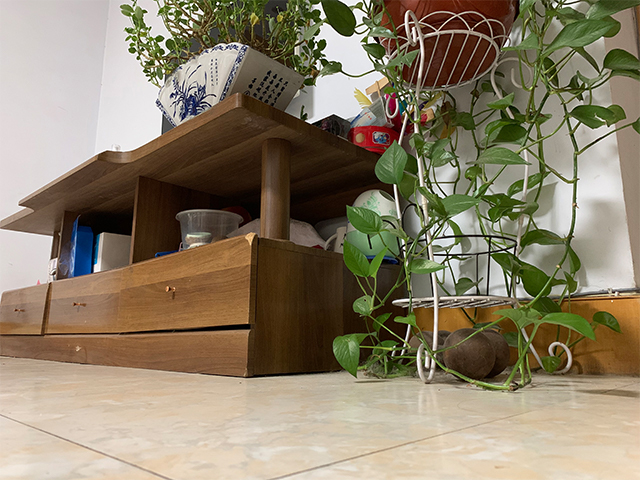cabinet: (1, 92, 408, 379)
